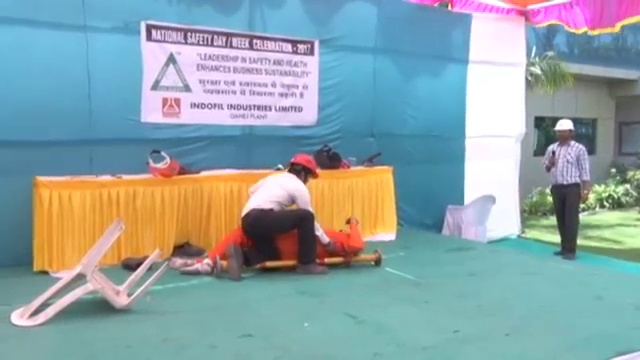helmet: (290, 151, 320, 180), (553, 118, 575, 133)
helmet_on: (287, 151, 319, 187), (551, 117, 576, 146)
person: (223, 152, 329, 282), (176, 217, 366, 279), (542, 117, 591, 262)
